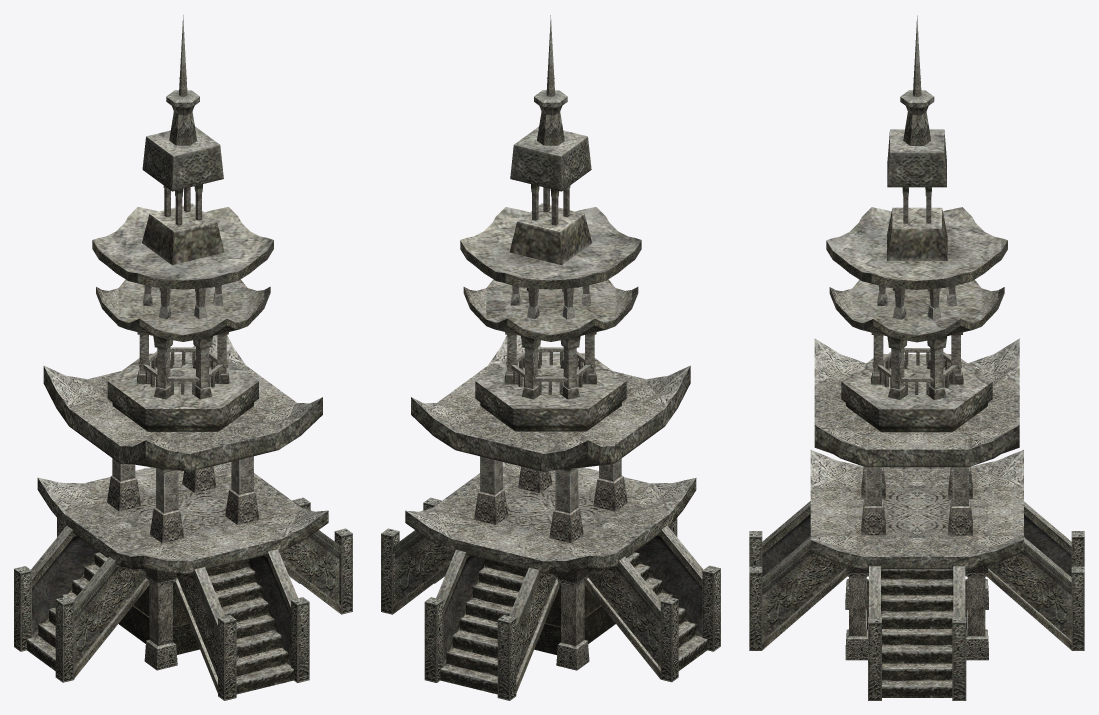
The model's file is b1-037-tower.fbx.
3 renders of one model, left to right at view 1: azimuth 30°, elevation 25°; view 2: azimuth 150°, elevation 25°; view 3: azimuth 270°, elevation 25°, orthographic.
Parts seen in each view (by area): view 1: B1-037-tower; view 2: B1-037-tower; view 3: B1-037-tower.
Part boxes in pixels (bbox=[...]): B1-037-tower: bbox=[14, 15, 352, 700]; B1-037-tower: bbox=[381, 15, 720, 700]; B1-037-tower: bbox=[749, 15, 1084, 700].
Size of the model in its own units: 7.64 by 15.49 by 7.64.
